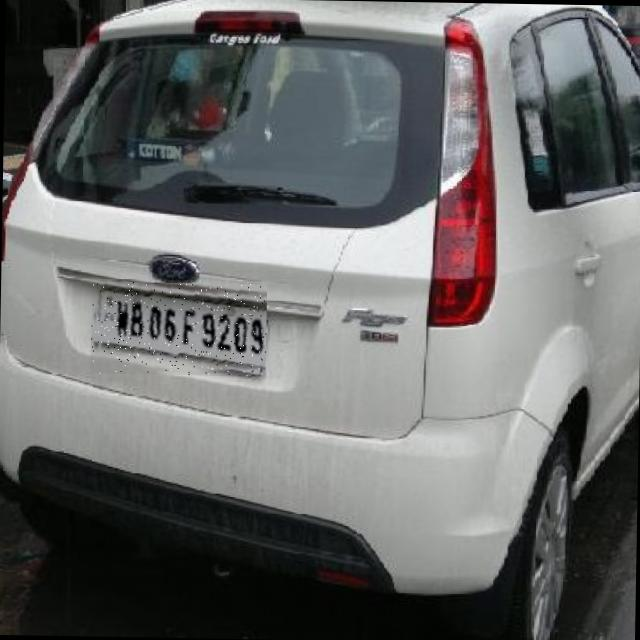Plate: (91, 282, 268, 377)
